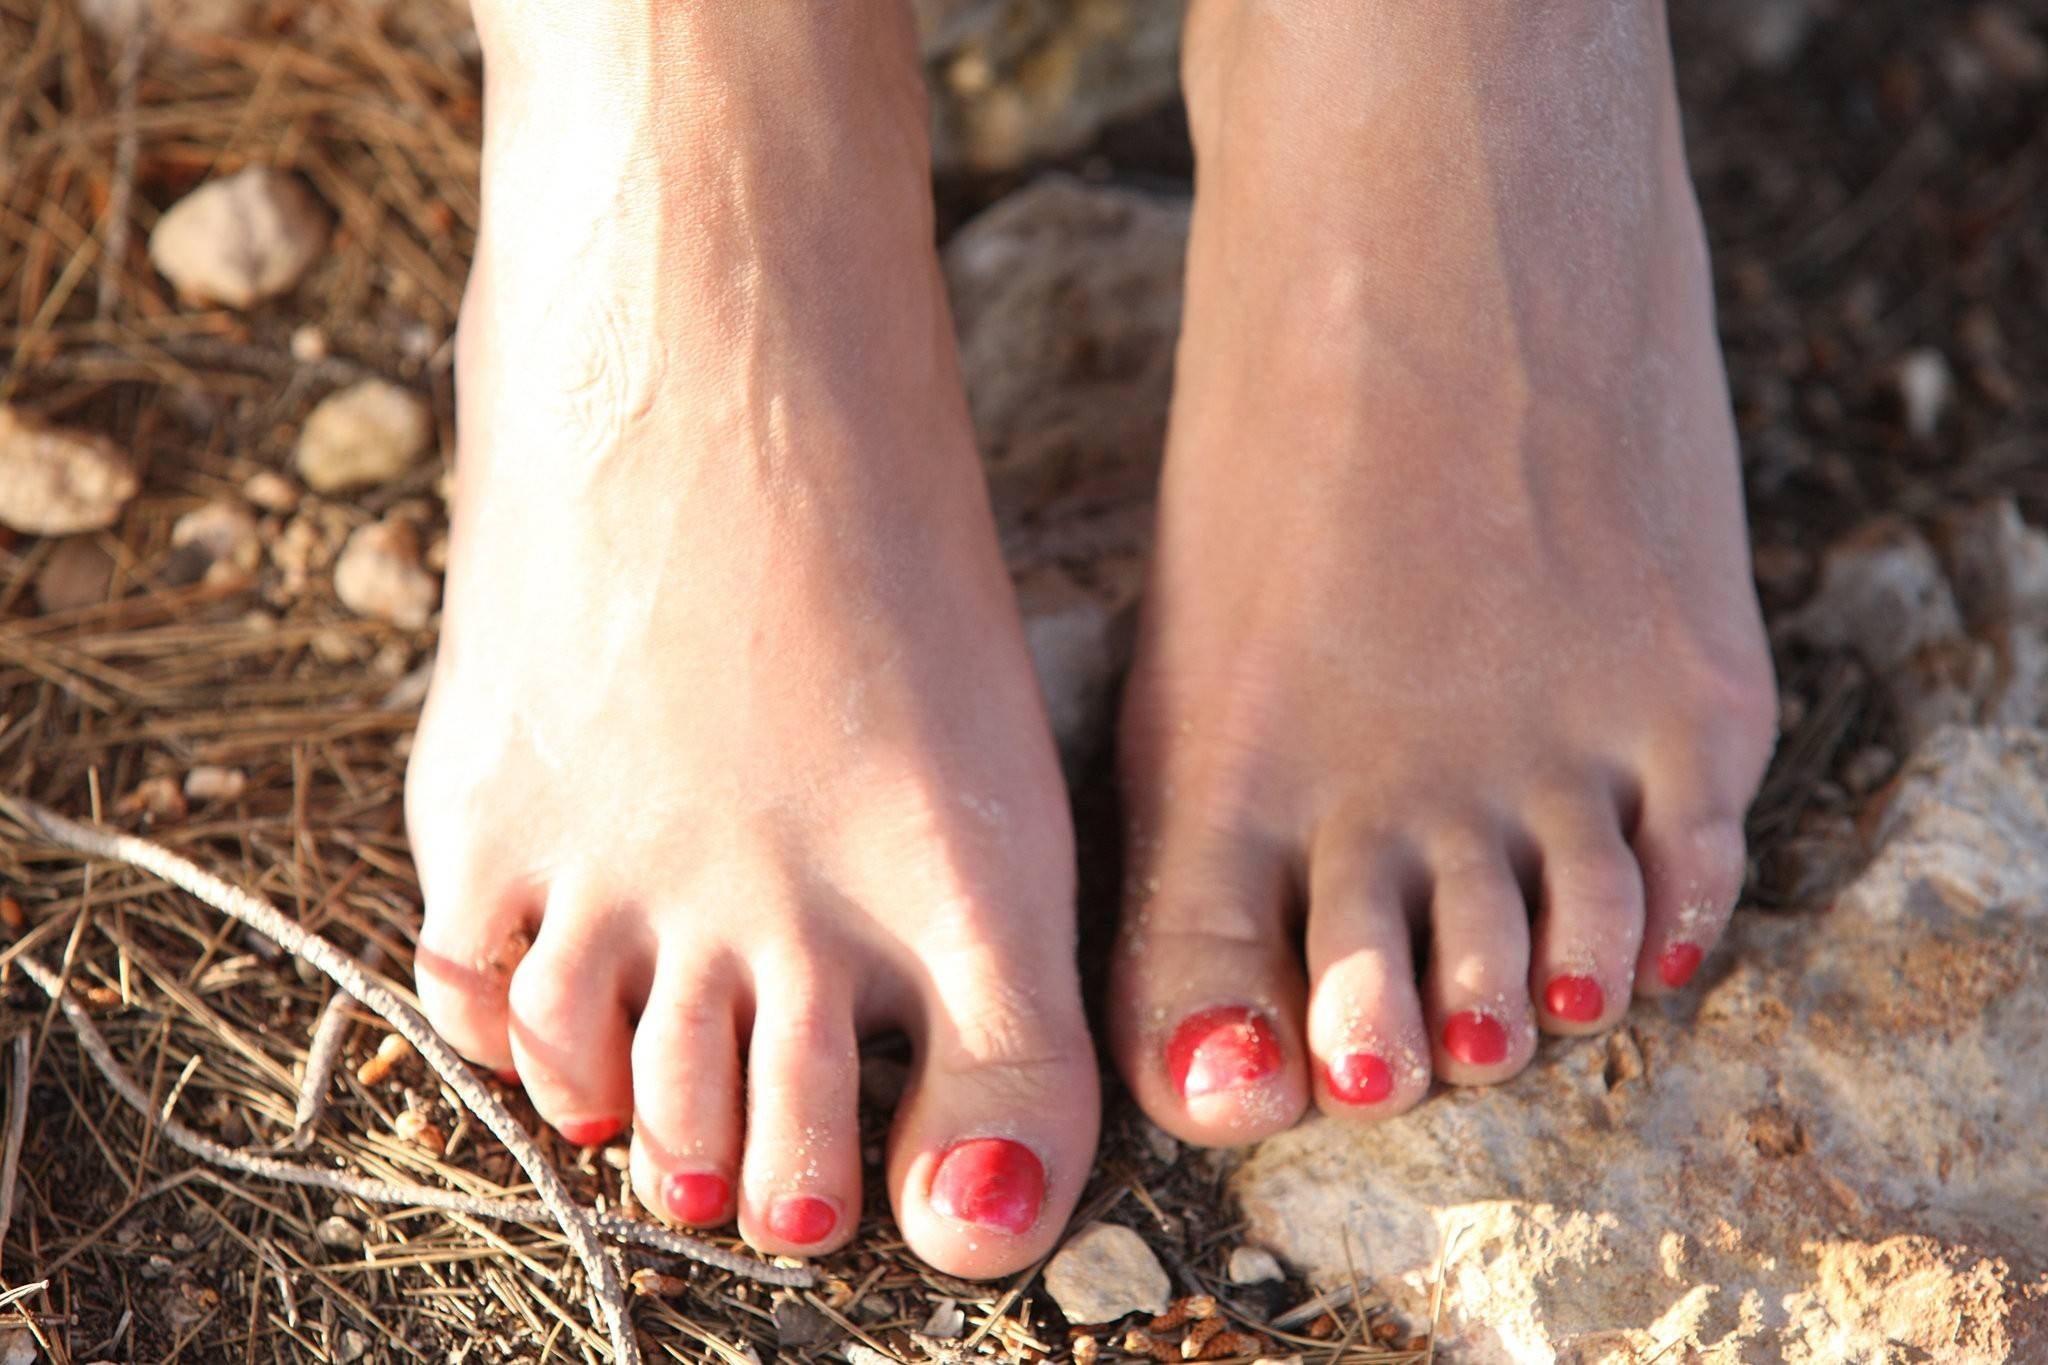feet: (288, 15, 1101, 1280), (1002, 11, 1803, 1146)
